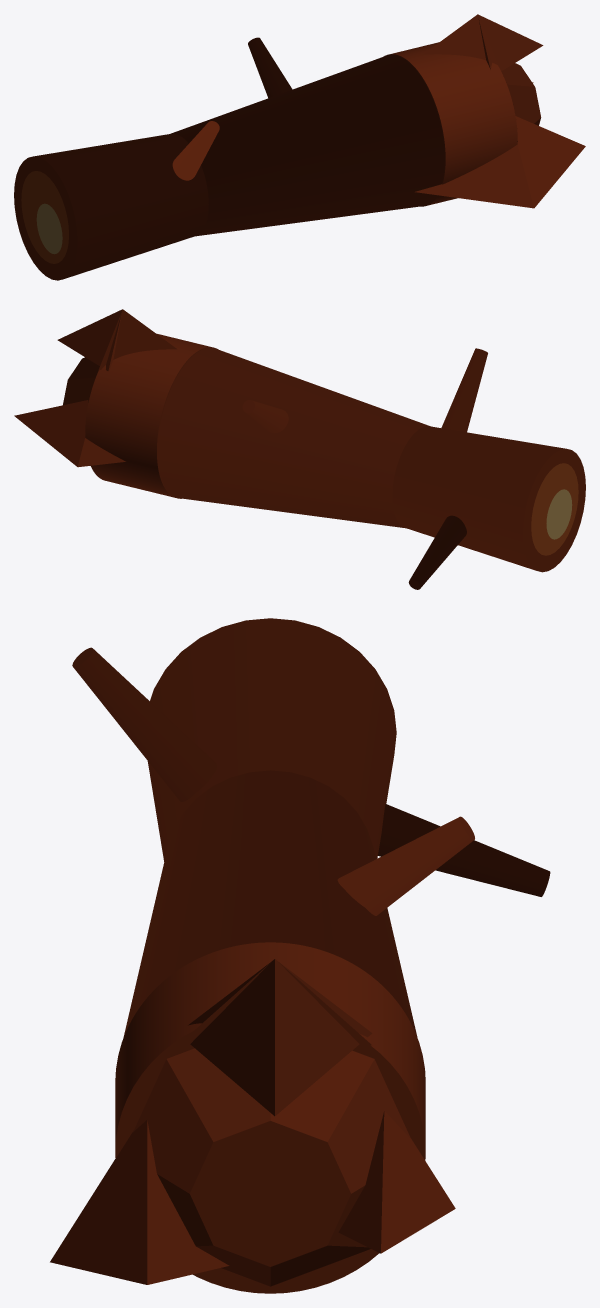
File: tree-fallen.obj
3 renders of one model, top to bottom at view 1: azimuth 30°, elevation 25°; view 2: azimuth 150°, elevation 25°; view 3: azimuth 270°, elevation 25°, orthographic. The views are drawn at different scales.
Size of the model in its own units: 4.79 by 1.52 by 2.02.
Materials: 3 (3 with a texture image).
